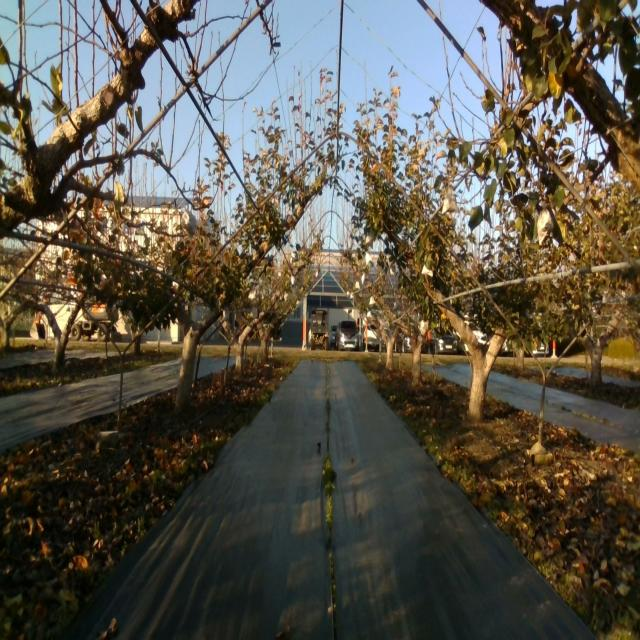pearbags: (536, 207, 555, 243), (180, 206, 197, 240), (442, 185, 459, 216)
